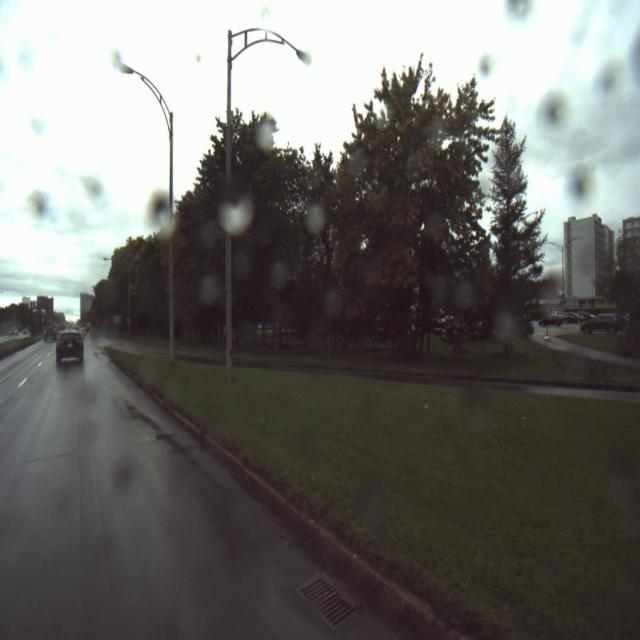car: (56, 330, 84, 366), (42, 326, 56, 342), (8, 326, 18, 336)
